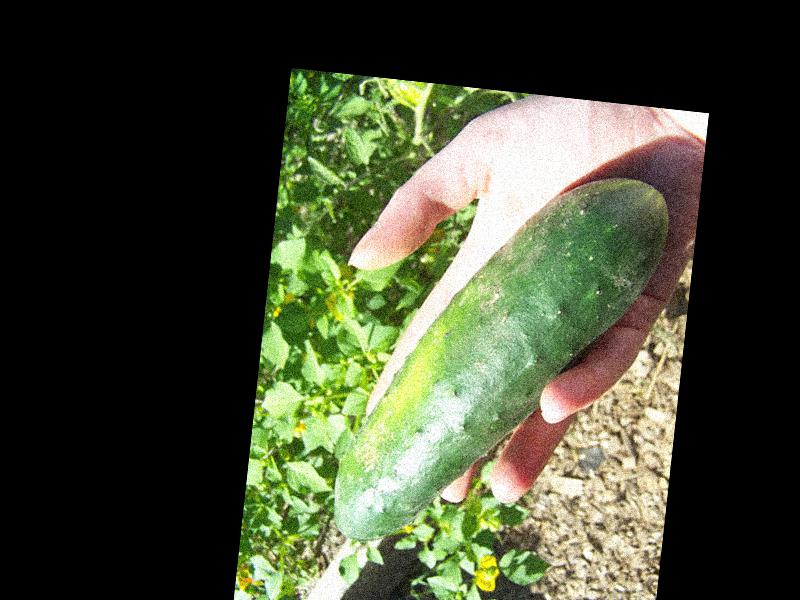Cucumber: (330, 152, 671, 571)
